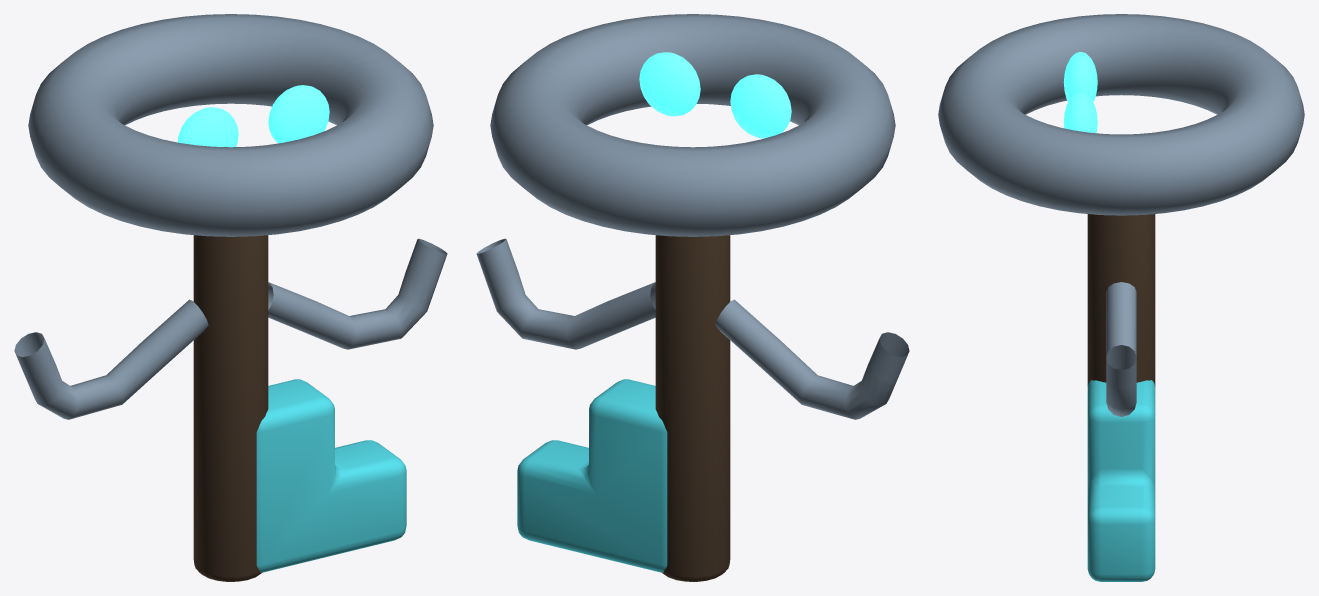
File: mimic_v8.glb
The picture shows the model from 3 angles, left to right: view 1: azimuth 30°, elevation 25°; view 2: azimuth 150°, elevation 25°; view 3: azimuth 270°, elevation 25°; orthographic projection. The views are drawn at different scales.
Parts seen in each view (by area): view 1: KEY_MIMIC_BOW_PRIMARY, KEY_MIMIC_SHAFT_SECONDARY, KEY_MIMIC_BIT_ACCENT, KEY_MIMIC_ARM_PRIMARY, KEY_MIMIC_ARM_PRIMARY.001, EYE_EMISSIVE.001, EYE_EMISSIVE; view 2: KEY_MIMIC_BOW_PRIMARY, KEY_MIMIC_SHAFT_SECONDARY, KEY_MIMIC_BIT_ACCENT, KEY_MIMIC_ARM_PRIMARY, KEY_MIMIC_ARM_PRIMARY.001, EYE_EMISSIVE.001, EYE_EMISSIVE; view 3: KEY_MIMIC_BOW_PRIMARY, KEY_MIMIC_BIT_ACCENT, KEY_MIMIC_SHAFT_SECONDARY, KEY_MIMIC_ARM_PRIMARY.001, EYE_EMISSIVE, EYE_EMISSIVE.001.
Boxes of the visible parts, <box> form: KEY_MIMIC_BOW_PRIMARY: <box>28,14,433,236</box>; KEY_MIMIC_SHAFT_SECONDARY: <box>193,235,268,581</box>; KEY_MIMIC_BIT_ACCENT: <box>256,379,406,572</box>; KEY_MIMIC_ARM_PRIMARY: <box>14,299,208,419</box>; KEY_MIMIC_ARM_PRIMARY.001: <box>268,238,447,349</box>; EYE_EMISSIVE.001: <box>268,85,329,143</box>; EYE_EMISSIVE: <box>177,107,238,147</box>; KEY_MIMIC_BOW_PRIMARY: <box>490,14,895,236</box>; KEY_MIMIC_SHAFT_SECONDARY: <box>655,235,730,581</box>; KEY_MIMIC_BIT_ACCENT: <box>517,379,667,572</box>; KEY_MIMIC_ARM_PRIMARY: <box>715,299,909,419</box>; KEY_MIMIC_ARM_PRIMARY.001: <box>476,238,655,349</box>; EYE_EMISSIVE.001: <box>639,52,700,116</box>; EYE_EMISSIVE: <box>730,74,791,138</box>; KEY_MIMIC_BOW_PRIMARY: <box>938,14,1304,215</box>; KEY_MIMIC_BIT_ACCENT: <box>1087,380,1155,581</box>; KEY_MIMIC_SHAFT_SECONDARY: <box>1087,214,1155,386</box>; KEY_MIMIC_ARM_PRIMARY.001: <box>1106,282,1136,416</box>; EYE_EMISSIVE: <box>1063,52,1097,101</box>; EYE_EMISSIVE.001: <box>1063,92,1097,133</box>.
Bounding box in the file's own units: 1.32 × 1.44 × 1.08.
